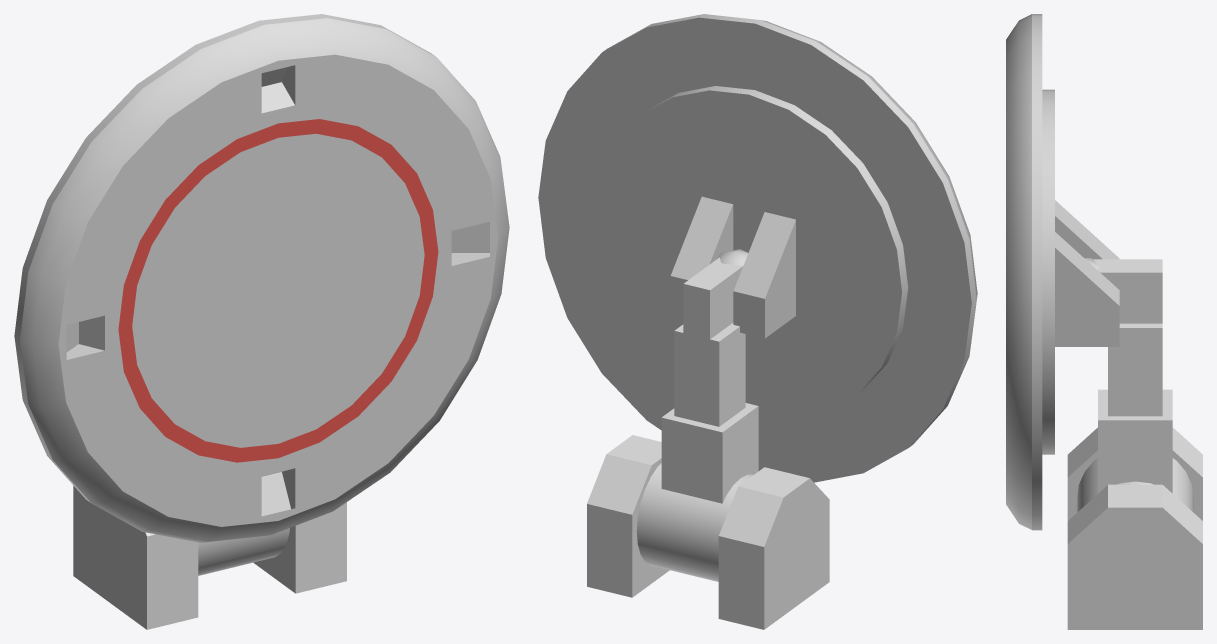
The model's file is Target.fbx.
3 renders of one model, left to right at view 1: azimuth 30°, elevation 25°; view 2: azimuth 150°, elevation 25°; view 3: azimuth 270°, elevation 25°, orthographic. The views are drawn at different scales.
Parts seen in each view (by area): view 1: Zielscheibe, Foot, ZielscheibeBack; view 2: ZielscheibeBack, Foot, Stand, Zielscheibe; view 3: Foot, ZielscheibeBack, Stand, Zielscheibe.
Part boxes in pixels (x1,y1,x2,y2): Zielscheibe: (20,18,509,542); Foot: (73,485,346,629); ZielscheibeBack: (14,14,435,502); ZielscheibeBack: (538,14,976,482); Foot: (587,435,829,629); Stand: (661,257,758,503); Zielscheibe: (761,20,977,348); Foot: (1067,427,1202,629); ZielscheibeBack: (1032,14,1119,530); Stand: (1093,259,1172,493); Zielscheibe: (1006,14,1031,529).
Bounding box in the file's own units: 92.91 × 108 × 35.31.
